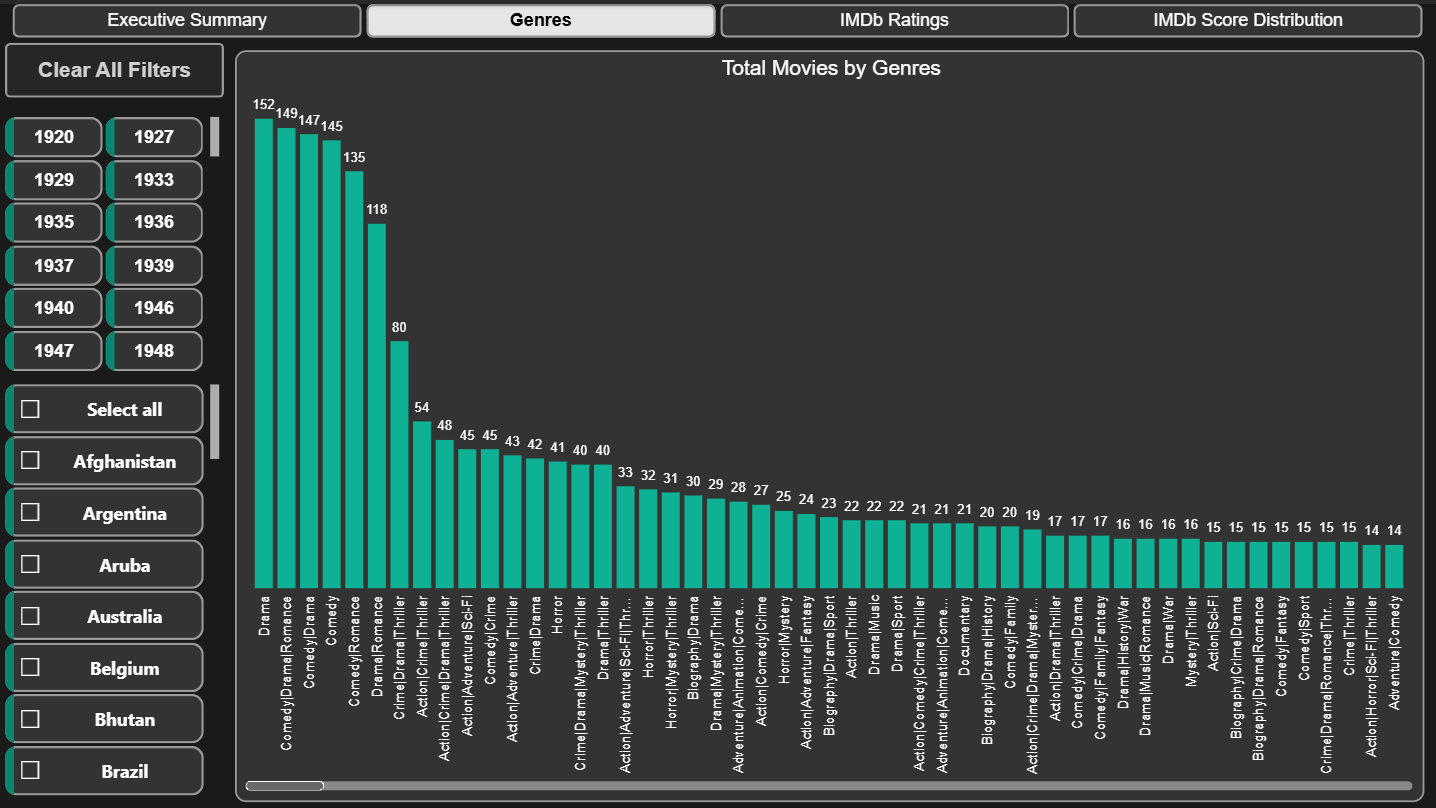

This screenshot's page, from the dashboard's own definition file:
{"tool":"powerbi","page":{"name":"Genres","canvas":[1280,720],"ordinal":1},"visuals":[{"type":"pageNavigator","box":[11,0,1258.3,30.2],"z":0},{"type":"actionButton","box":[4.9,34.4,195.1,49.1],"z":1000},{"type":"advancedSlicerVisual","fields":{"Values":["cleaned_movies.title_year"]},"box":[0,95.7,200,238],"z":3000},{"type":"listSlicer","fields":{"Values":["cleaned_movies.country"]},"box":[0,333.7,200,376.7],"z":4000},{"type":"clusteredColumnChart","fields":{"Category":["cleaned_movies.genres"],"Y":["_Measures.Total Movies"]},"box":[209.8,41,1058.9,669.5],"z":4500}]}

Visuals, with their boxes in screenshot pixels (x1, y1, x2, y2), scaled from the page's 1280x720 canvas onto the 1436x808 screenshot:
pageNavigator: {"left": 12, "top": 0, "right": 1424, "bottom": 34}
actionButton: {"left": 5, "top": 39, "right": 224, "bottom": 94}
advancedSlicerVisual - cleaned_movies.title_year: {"left": 0, "top": 107, "right": 224, "bottom": 374}
listSlicer - cleaned_movies.country: {"left": 0, "top": 374, "right": 224, "bottom": 797}
clusteredColumnChart - cleaned_movies.genres x _Measures.Total Movies: {"left": 235, "top": 46, "right": 1423, "bottom": 797}
